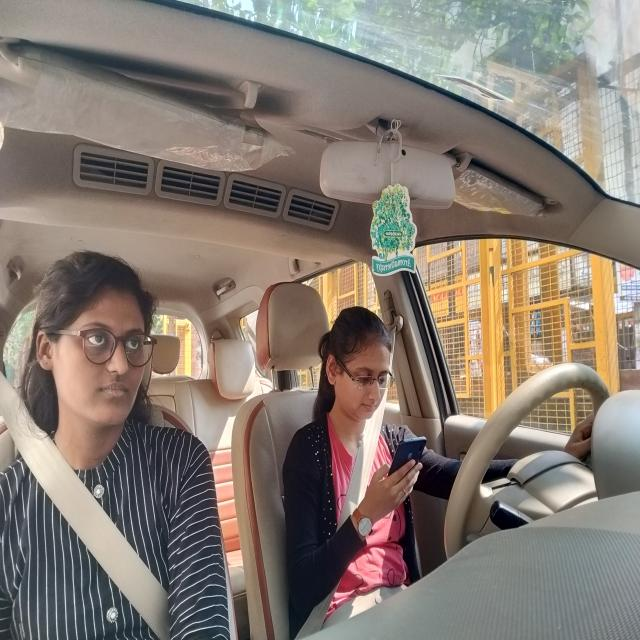mobile: (389, 434, 428, 490)
person: (42, 266, 147, 432), (318, 296, 395, 423)
